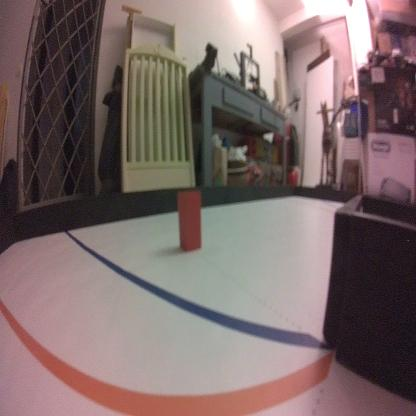red: (177, 188, 202, 253)
